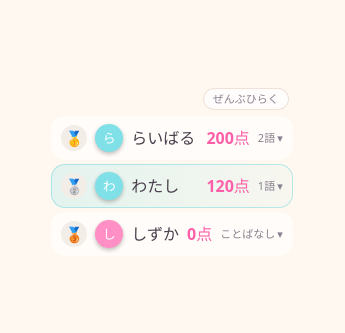
Test case: RoundPlayerList › 「ぜんぶひらく」で全員のことばが開き、もう一度押すと閉じる
This screenshot has width=345, height=333.
Click the button "ぜんぶひらく": (246, 99) [203,88,289,110]
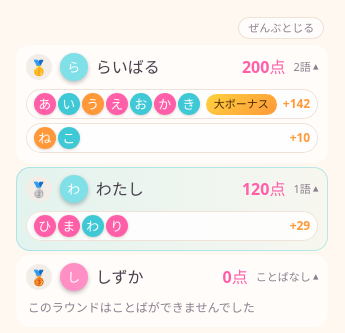
Expected: the element named "あいうえおかき" is shown, [34,93,200,115]
Expected: the element named "ひまわり" is shown, [34,215,128,237]
Expected: the text "このラウンドはことばができませんでした" is shown, [28,299,255,316]
Click the button "ぜんぶとじる": (281, 28) [238,17,324,39]
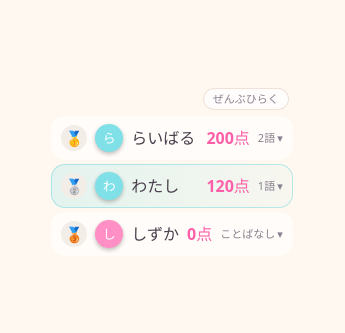
Expected: the field labelled "あいうえおかき" is gone
Expected: the field labelled "ひまわり" is gone
